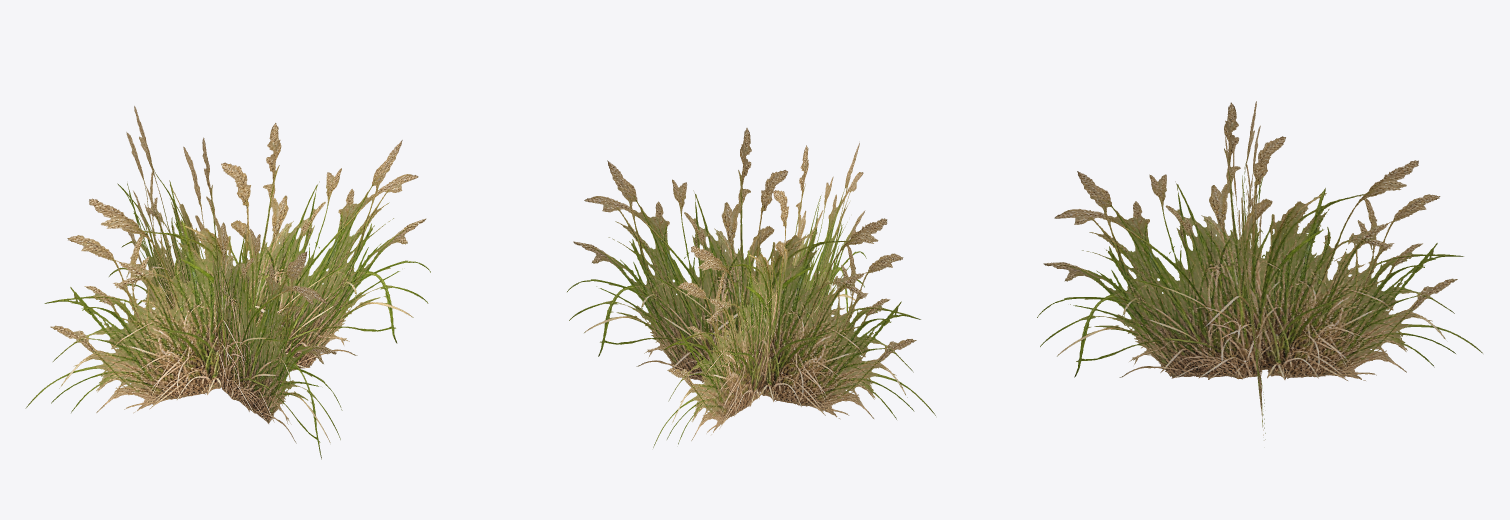
The model's file is upland-lean.glb.
3 views of the same model, side by side, from view 1: azimuth 30°, elevation 25°; view 2: azimuth 150°, elevation 25°; view 3: azimuth 270°, elevation 25° (orthographic). The views are drawn at different scales.
Parts seen in each view (by area): view 1: upland-lean; view 2: upland-lean; view 3: upland-lean.
Boxes of the visible parts, x1,y1,x2,y2 form: upland-lean: (25, 106, 430, 459); upland-lean: (567, 128, 935, 447); upland-lean: (1037, 101, 1482, 440).
Size of the model in its own units: 1.53 by 1.05 by 1.53.
1 material, 1 textured.
